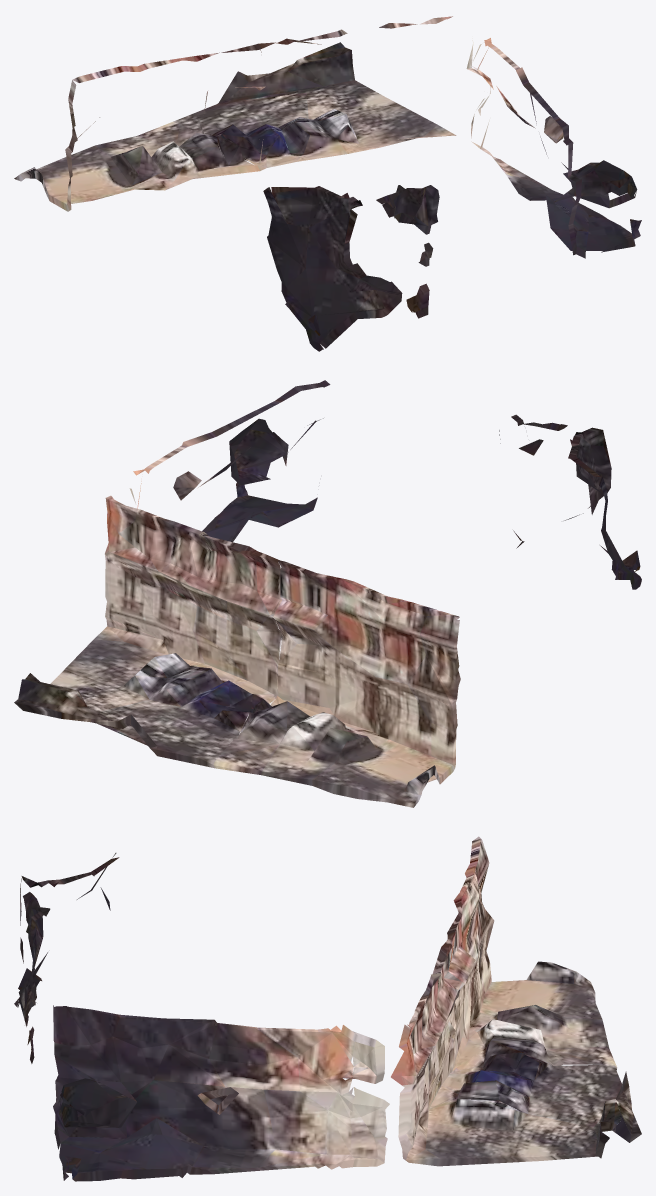
3 views of the same model, one above another, from view 1: azimuth 30°, elevation 25°; view 2: azimuth 150°, elevation 25°; view 3: azimuth 270°, elevation 25° (orthographic). The views are drawn at different scales.
Parts seen in each view (by area): view 1: Mesh_0; view 2: Mesh_0; view 3: Mesh_0.
Boxes of the visible parts, x1,y1,x2,y2 form: Mesh_0: (14,16,641,351); Mesh_0: (14,380,641,807); Mesh_0: (14,836,641,1181).
Bounding box in the file's own units: 33.72 × 11.63 × 41.48.
1 material, 1 textured.
